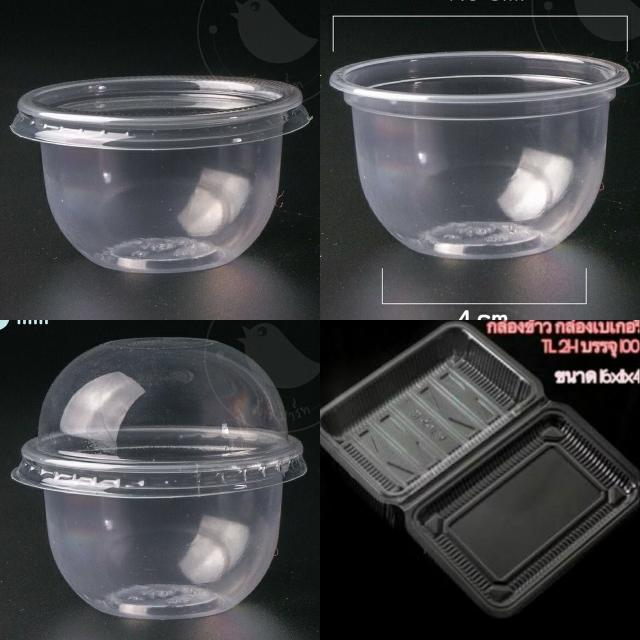Single-Use-Plastic: (321, 322, 639, 618), (11, 338, 306, 620), (330, 52, 629, 259), (11, 76, 309, 273)
